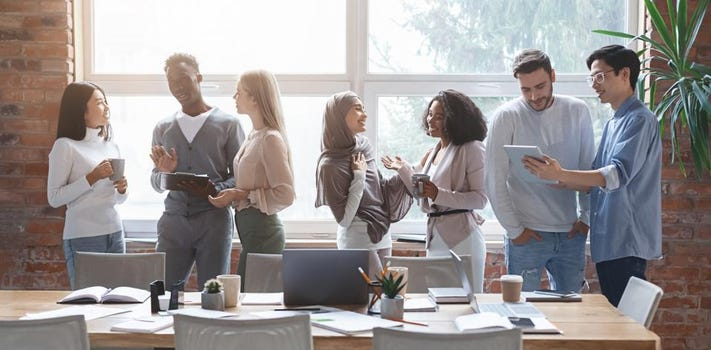person: (522, 42, 663, 320), (485, 50, 595, 293), (144, 52, 244, 293), (313, 88, 427, 293), (381, 89, 488, 292), (42, 80, 133, 290), (211, 70, 296, 294)
